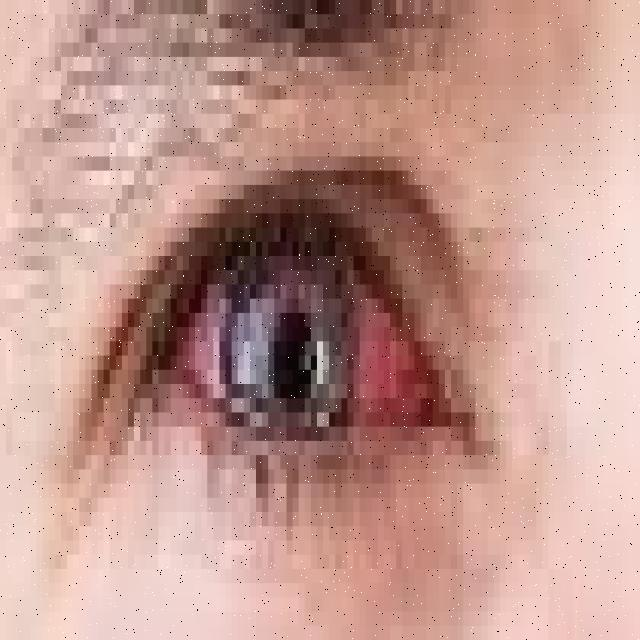Conjunctivitis: (136, 296, 468, 434)
